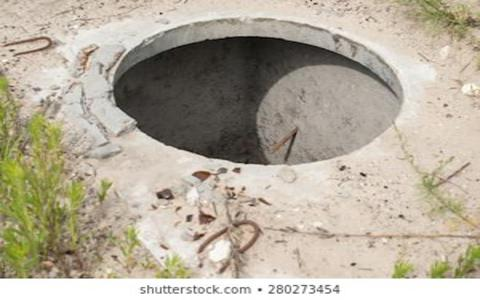open manhole: (99, 11, 418, 205)
